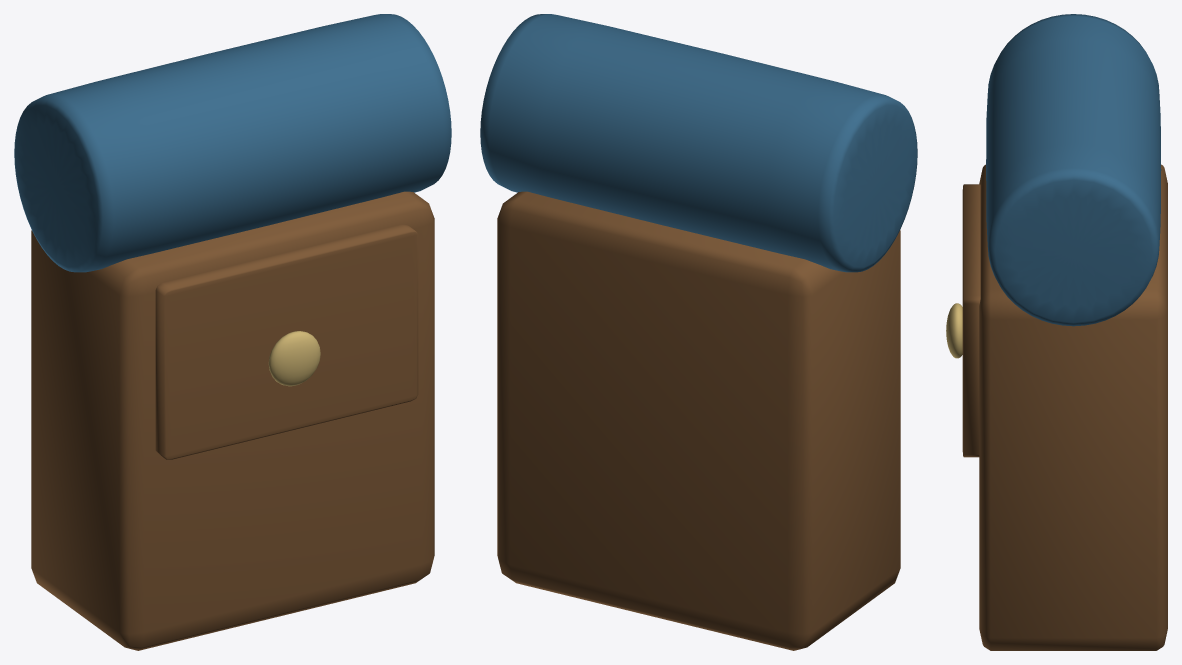
The model's file is pack.glb.
3 renders of one model, left to right at view 1: azimuth 30°, elevation 25°; view 2: azimuth 150°, elevation 25°; view 3: azimuth 270°, elevation 25°, orthographic. The views are drawn at different scales.
Visible parts, largest first — view 1: Cube, Cylinder, Cube.001, buckle; view 2: Cube, Cylinder; view 3: Cube, Cylinder, Cube.001, buckle.
Boxes of the visible parts, left/top/right/bottom form: Cube: left=31, top=191, right=434, bottom=650; Cylinder: left=14, top=14, right=451, bottom=272; Cube.001: left=155, top=224, right=418, bottom=459; buckle: left=268, top=331, right=320, bottom=386; Cube: left=497, top=191, right=900, bottom=650; Cylinder: left=480, top=14, right=917, bottom=272; Cube: left=979, top=164, right=1167, bottom=650; Cylinder: left=986, top=14, right=1161, bottom=326; Cube.001: left=962, top=184, right=980, bottom=457; buckle: left=946, top=303, right=962, bottom=358.
Bounding box in the file's own units: 0.6997 × 0.9879 × 0.4.
